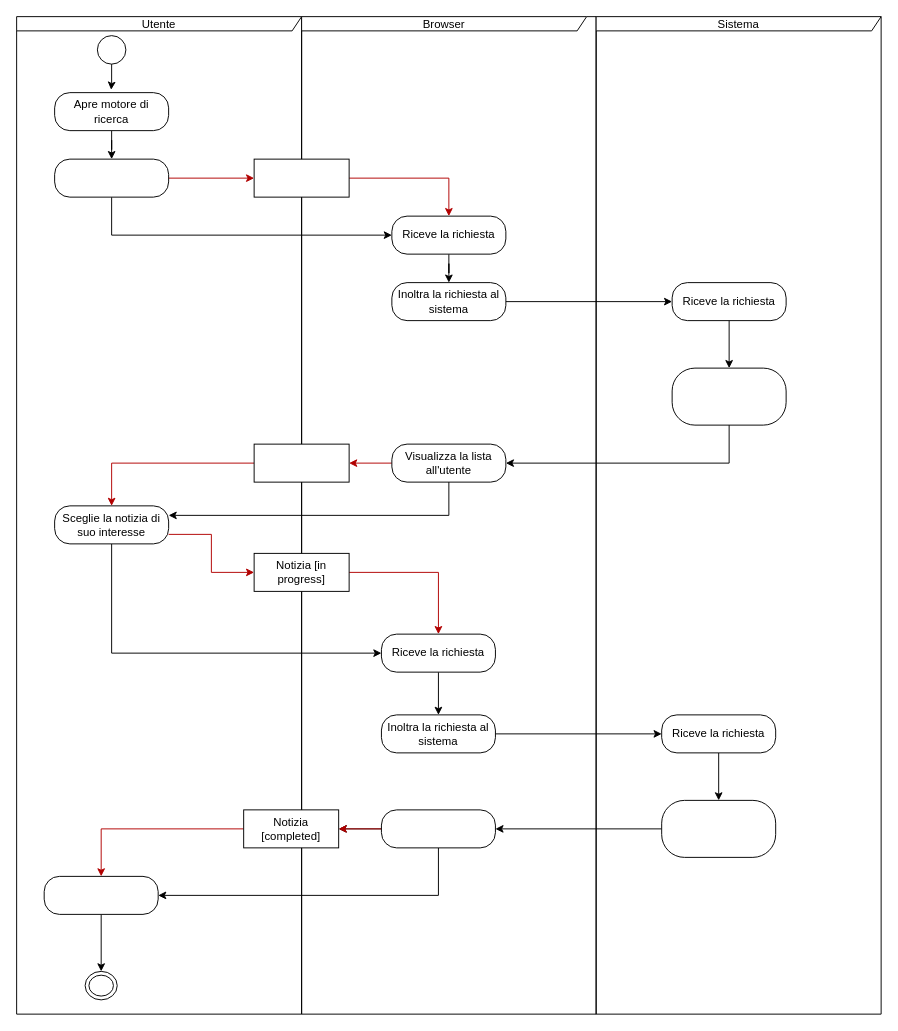
This 898x1031 diagram has some shape labels left out. Here are the shapes that lost their labels. From the top down, the centre of each, then its label:
At [111,177]: "Ricerca notizie di un dato argomento".
At [301,177]: "ListaNotizie [in progress]".
At [728,396]: "Produce la liista di notizie pertinenti all'argomento".
At [301,462]: "ListaNotizie [completed]".
At [437,828]: "Visualizza la notizia al utente".
At [718,828]: "Produce i dati riguardanti la notizia scelta".
At [100,894]: "Riceve la notizia".
